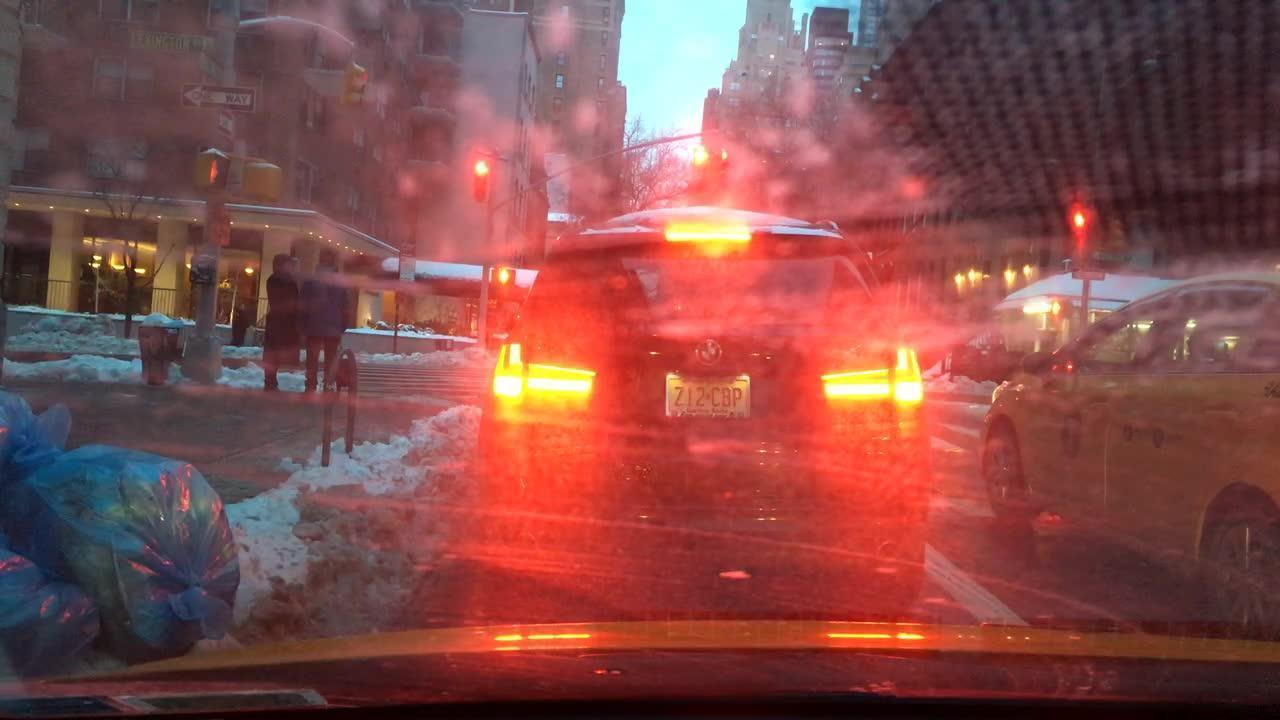bmw: (694, 338, 725, 369)
